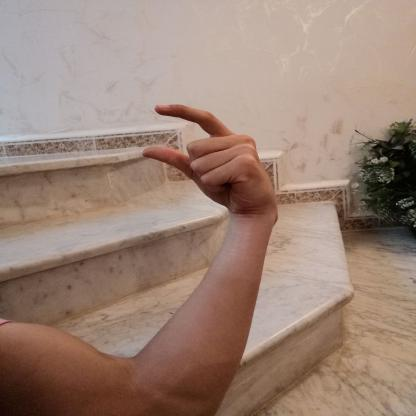DELL: (129, 94, 281, 218)
